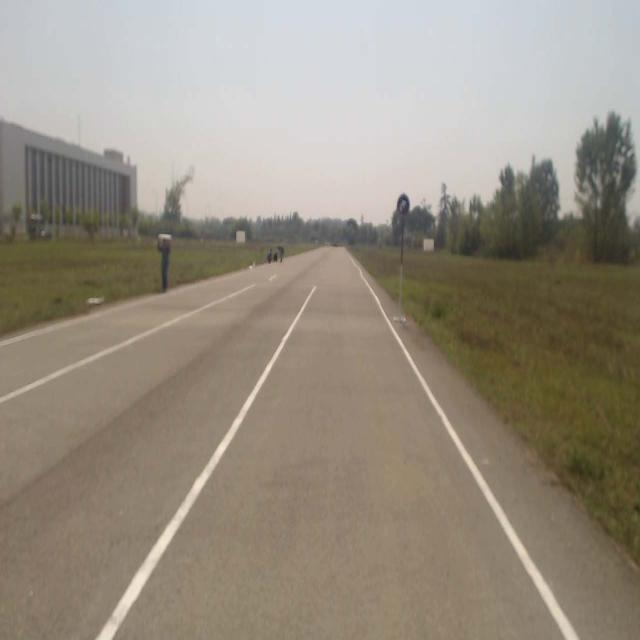sag: (398, 194, 410, 217)
